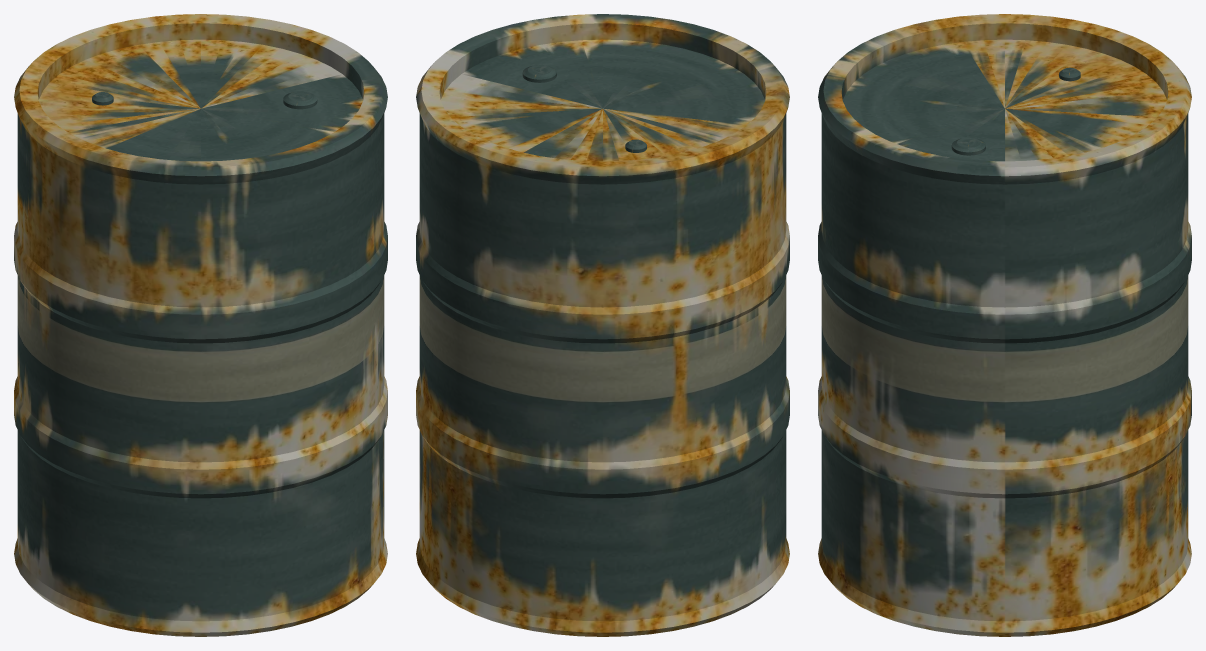
Rendered from barile.glb.
3 renders of one model, left to right at view 1: azimuth 30°, elevation 25°; view 2: azimuth 150°, elevation 25°; view 3: azimuth 270°, elevation 25°, orthographic.
Parts seen in each view (by area): view 1: drum; view 2: drum; view 3: drum.
Boxes of the visible parts, left/top/right/bottom form: drum: left=14, top=14, right=387, bottom=636; drum: left=416, top=14, right=789, bottom=636; drum: left=818, top=14, right=1191, bottom=636.
Bounding box in the file's own units: 2.07 × 2.87 × 2.07.
1 material, 1 textured.
